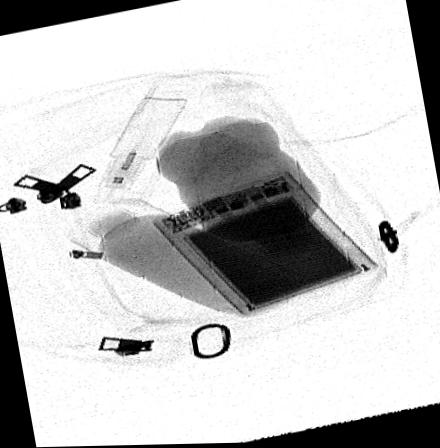Powerbank: (152, 170, 381, 319)
